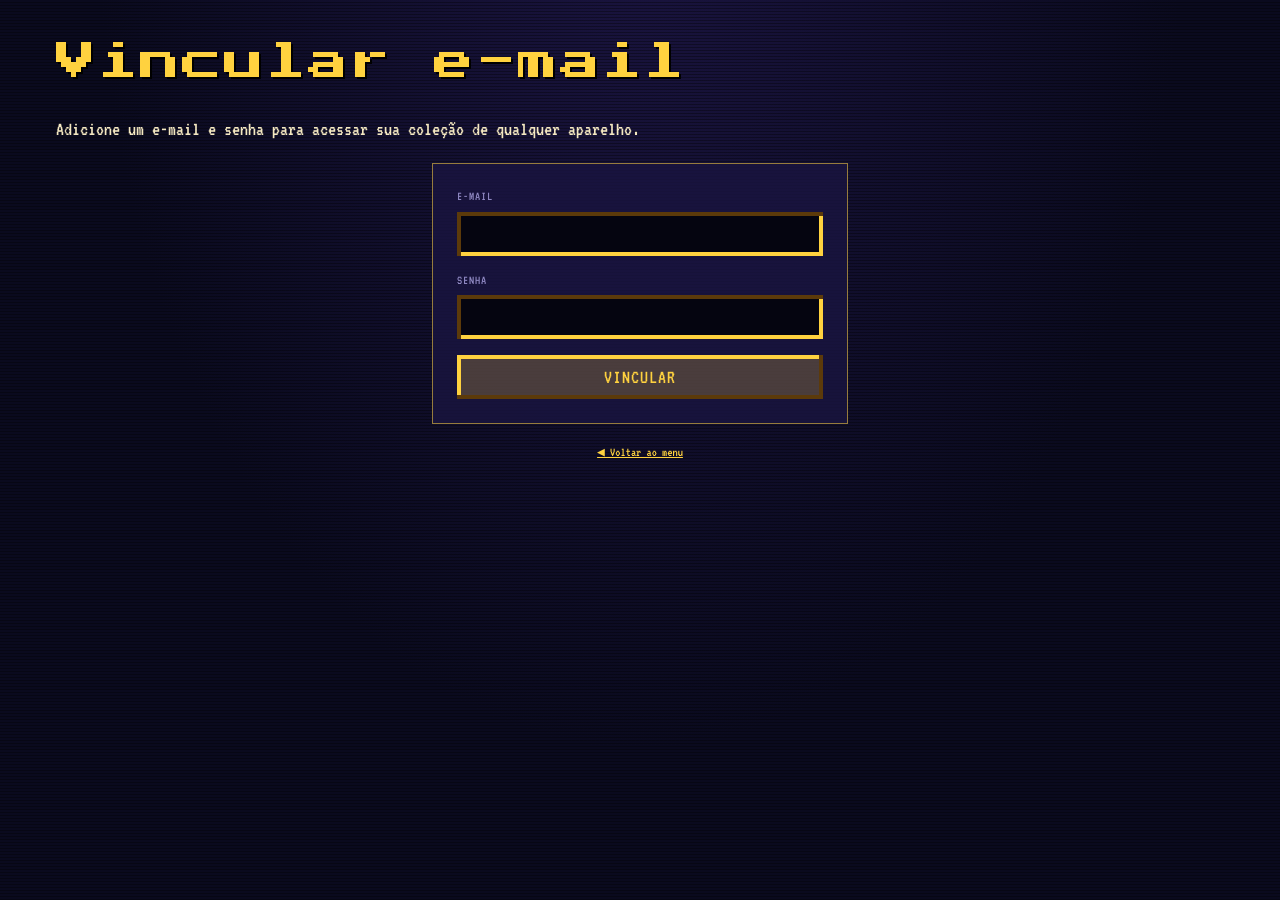
Test: LinkEmailForm › maps a duplicate e-mail error to its own message
Type "player@example.com" into the field labelled "E-mail" at (640, 234), box [457, 212, 823, 256]
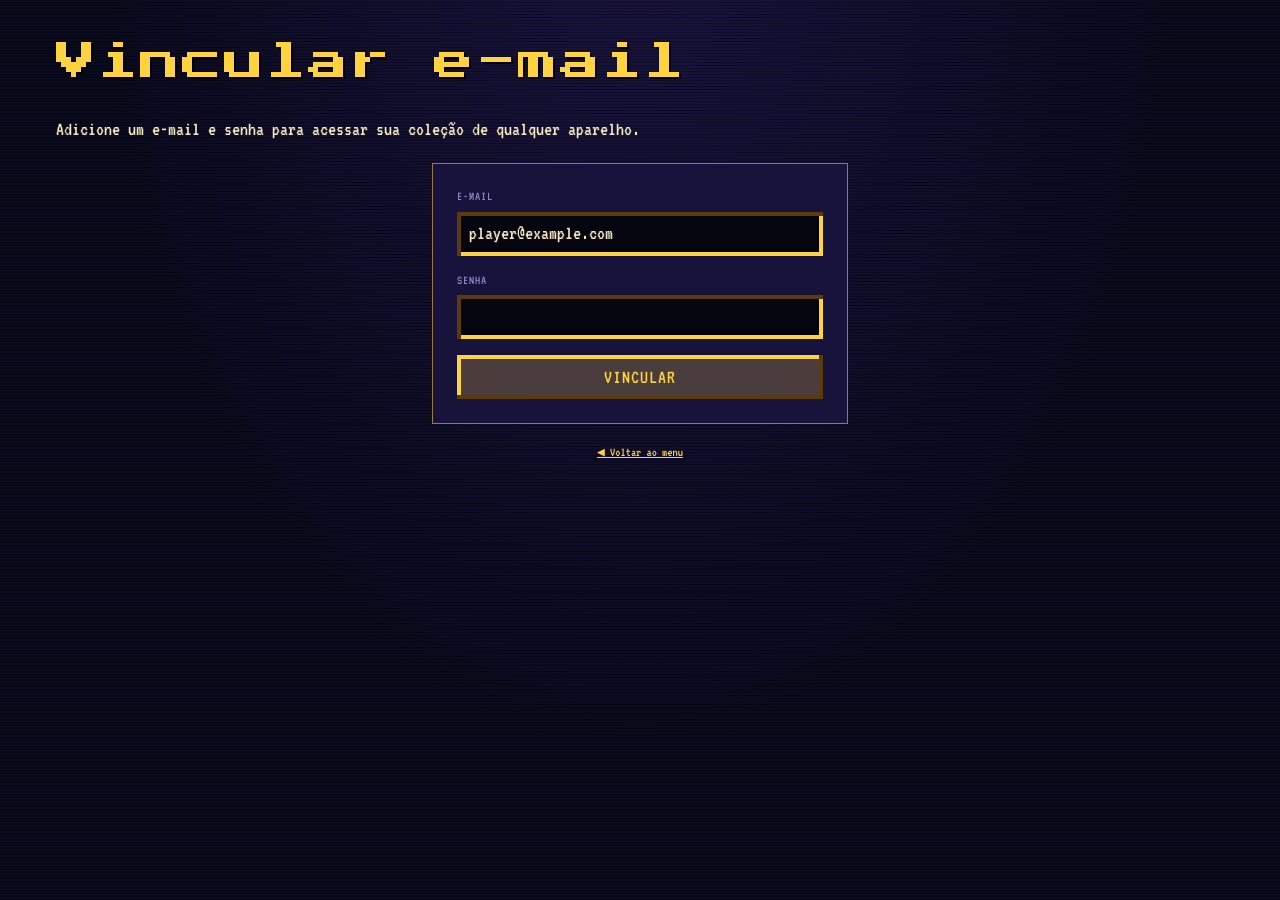
Type "s3nha123" into the password field labelled "Senha" at (640, 317), box [457, 295, 823, 339]
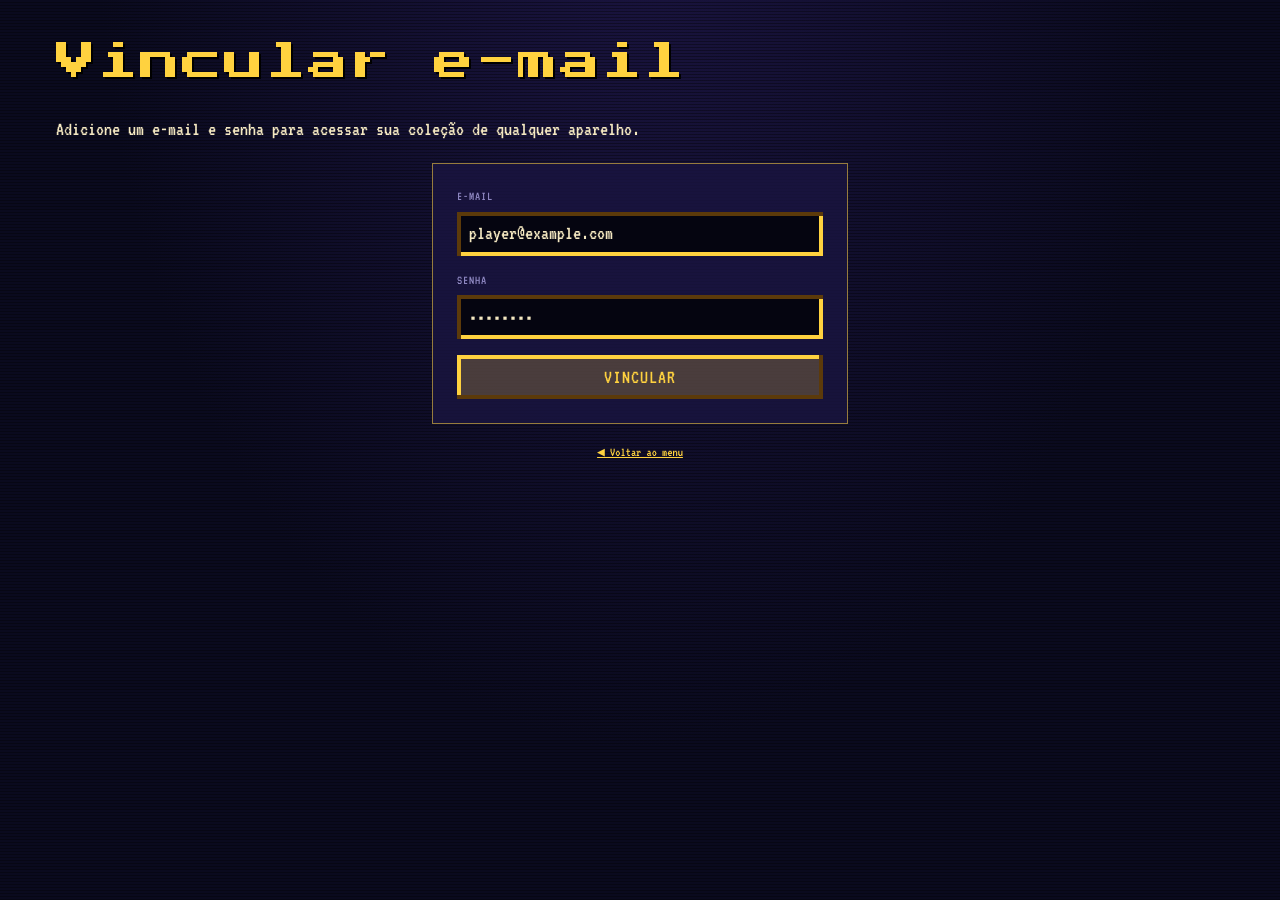
Click the button "Vincular" at (640, 377), box [457, 355, 823, 399]
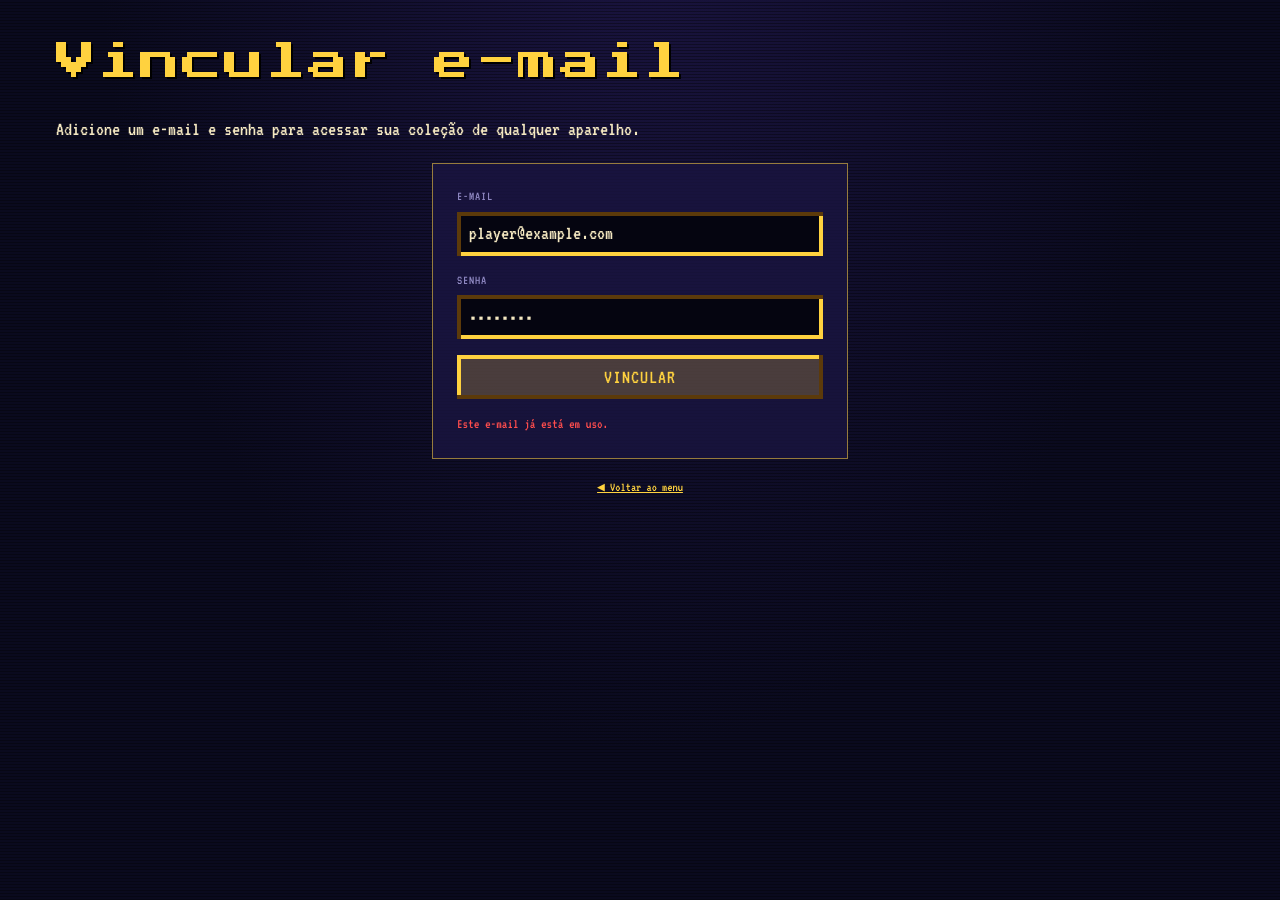
Check: the text "Este e-mail já está em uso." is shown, box [457, 417, 608, 431]
